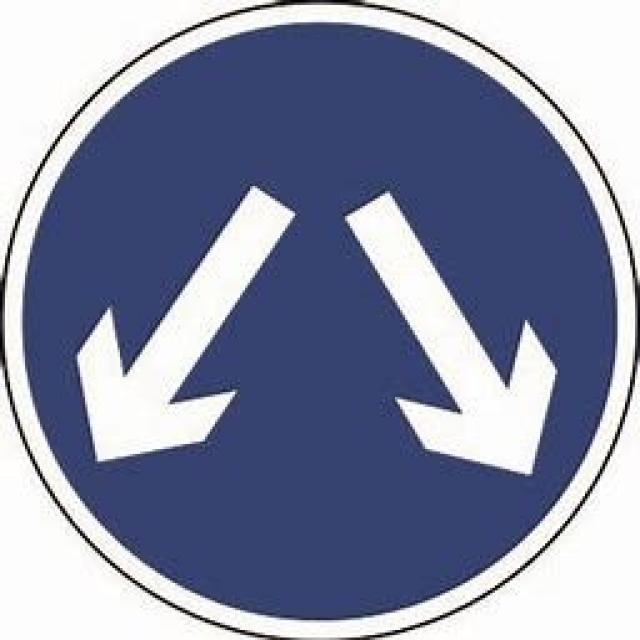pass either side: (17, 12, 613, 625)
